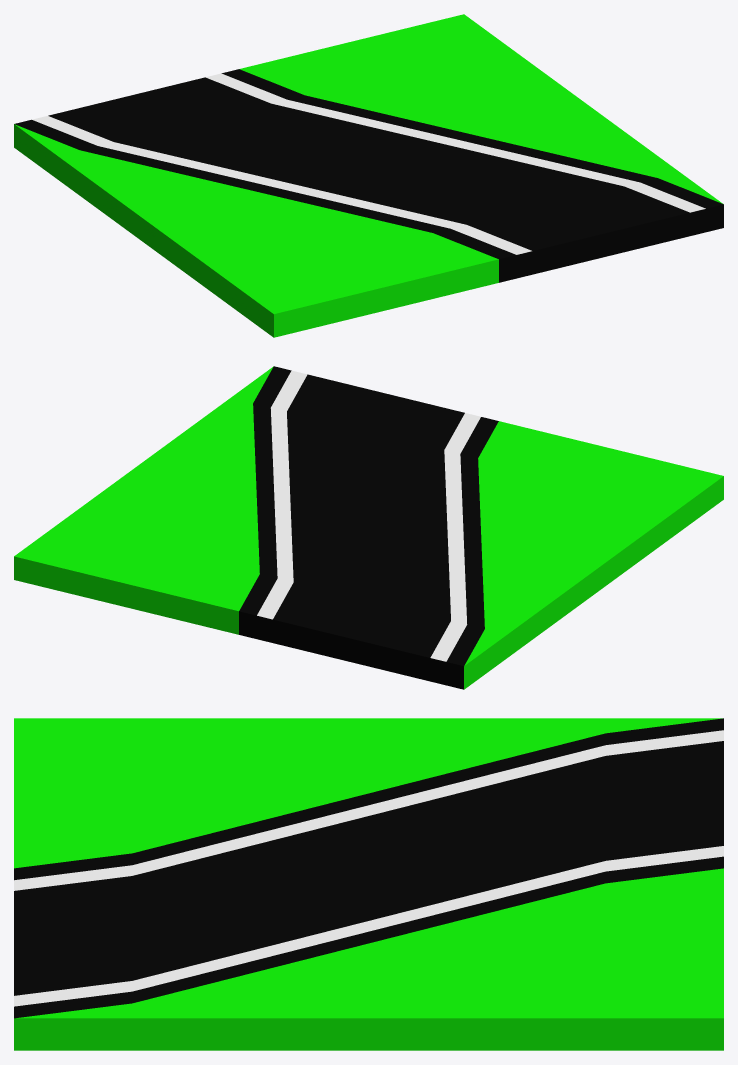
File: halfroad2_export.fbx
The picture shows the model from 3 angles, top to bottom: view 1: azimuth 30°, elevation 25°; view 2: azimuth 150°, elevation 25°; view 3: azimuth 270°, elevation 25°; orthographic projection. The views are drawn at different scales.
Parts seen in each view (by area): view 1: Road, Grass1, Grass2; view 2: Road, Grass1, Grass2; view 3: Road, Grass2, Grass1.
Boxes of the visible parts, x1,y1,x2,y2 form: Road: (14,69,723,282); Grass1: (14,124,498,337); Grass2: (239,14,722,203); Road: (239,366,498,689); Grass1: (464,421,723,689); Grass2: (14,366,273,634); Road: (14,718,723,1018); Grass2: (14,868,723,1050); Grass1: (14,718,722,868).
Size of what is drawn, in the model's own units: 2000 by 100 by 2000.
